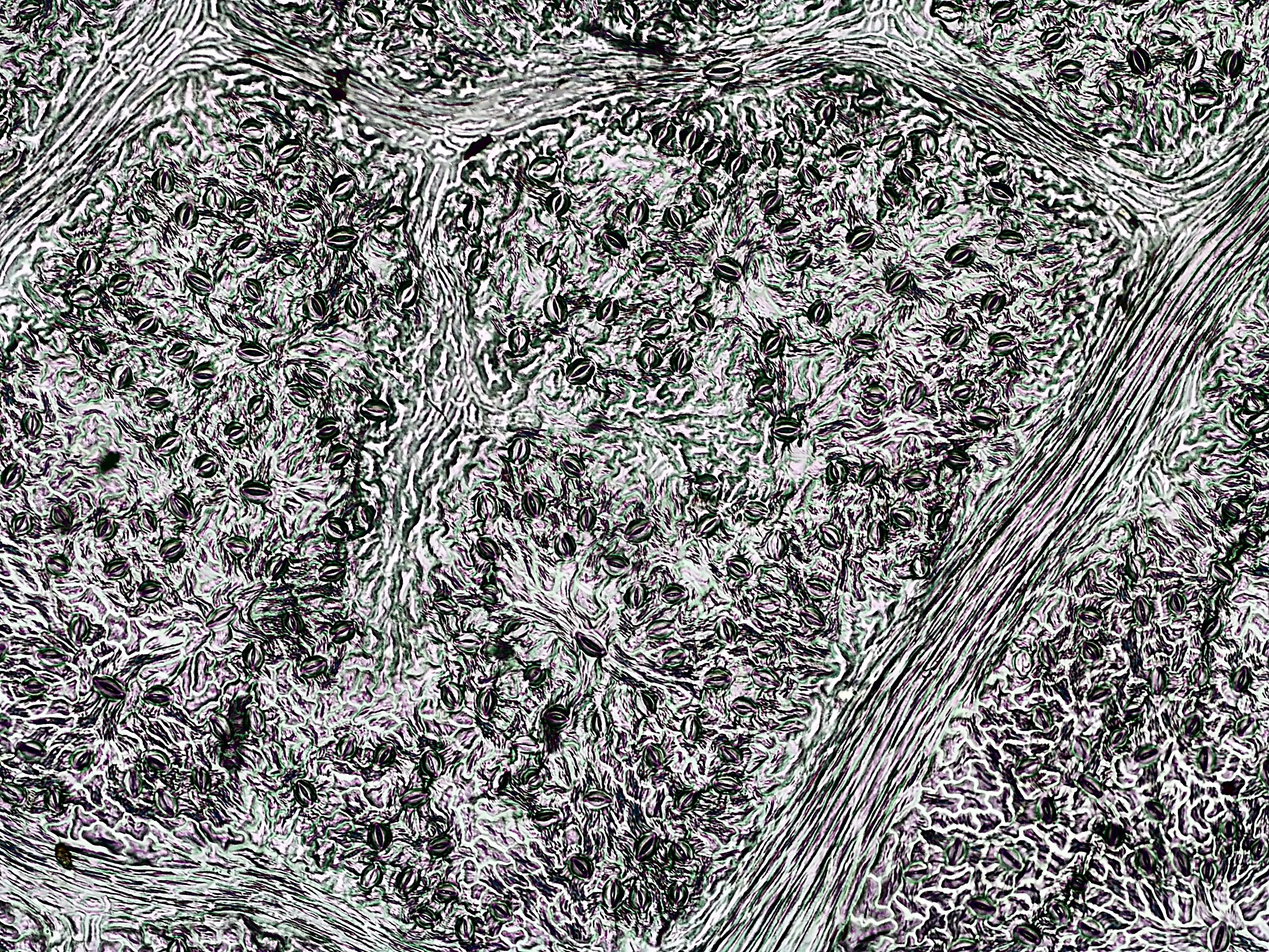stomata: (701, 58, 745, 83), (576, 627, 609, 657), (204, 603, 238, 631), (1097, 75, 1125, 108), (324, 225, 359, 251), (564, 357, 595, 385), (367, 820, 394, 852), (0, 779, 29, 808), (527, 156, 559, 182), (1206, 919, 1231, 952), (770, 419, 804, 443), (965, 894, 999, 918), (185, 267, 214, 295), (168, 493, 197, 521), (623, 517, 653, 544), (847, 226, 877, 253), (244, 478, 275, 504), (476, 686, 499, 721), (766, 527, 789, 562), (93, 675, 126, 699), (994, 229, 1027, 253), (1035, 641, 1064, 668), (638, 248, 672, 271), (969, 407, 1003, 430), (150, 430, 180, 456), (632, 831, 658, 861), (806, 298, 832, 328), (508, 325, 532, 357), (394, 279, 420, 308), (947, 242, 976, 268), (264, 551, 288, 582), (523, 488, 547, 519), (545, 294, 568, 326), (603, 878, 626, 910), (814, 95, 837, 127), (1128, 44, 1151, 76), (599, 228, 625, 256), (694, 513, 722, 539), (799, 604, 827, 630), (758, 330, 784, 358), (1009, 648, 1035, 676), (410, 2, 439, 27), (395, 866, 420, 895), (545, 189, 570, 218), (505, 435, 530, 464), (835, 143, 864, 168), (1013, 923, 1042, 948), (901, 381, 925, 411), (1219, 47, 1243, 77), (650, 119, 673, 150), (642, 317, 674, 339), (774, 220, 806, 242), (1185, 47, 1207, 79), (594, 298, 620, 325), (727, 553, 753, 580), (1106, 727, 1132, 754), (188, 364, 216, 389), (293, 779, 318, 807), (475, 492, 500, 520), (725, 151, 750, 179), (1154, 22, 1182, 47), (235, 342, 268, 363), (1126, 550, 1147, 583), (175, 199, 198, 229), (229, 233, 259, 256), (130, 311, 160, 334), (243, 706, 266, 736), (242, 642, 265, 672), (804, 577, 834, 600), (988, 332, 1018, 355), (1190, 84, 1220, 107), (143, 686, 174, 708), (631, 883, 653, 914), (946, 836, 968, 867), (642, 745, 668, 771), (238, 143, 263, 170), (877, 182, 902, 209), (1165, 590, 1190, 617), (355, 7, 383, 31), (238, 117, 266, 141), (69, 285, 97, 309), (246, 391, 270, 419), (693, 182, 717, 210), (680, 711, 701, 743), (848, 331, 880, 352), (78, 248, 101, 277), (317, 560, 346, 583), (298, 654, 327, 677), (377, 205, 407, 227), (122, 768, 144, 798), (426, 834, 456, 856), (581, 790, 614, 810), (155, 787, 176, 818), (634, 689, 655, 720), (161, 537, 186, 563), (617, 0, 642, 26), (477, 536, 503, 561), (439, 682, 464, 708), (666, 839, 692, 864), (327, 443, 351, 470), (818, 522, 842, 549), (304, 292, 327, 320), (209, 714, 232, 742), (420, 748, 443, 776), (503, 616, 531, 639), (752, 667, 780, 690), (661, 582, 689, 605), (782, 113, 805, 141), (990, 0, 1018, 23), (1201, 617, 1224, 645), (359, 862, 381, 891), (666, 880, 688, 909), (672, 347, 693, 377), (868, 520, 889, 550), (81, 332, 106, 357), (1041, 25, 1066, 50), (1, 462, 25, 488), (692, 307, 716, 333), (986, 181, 1012, 205), (945, 323, 969, 349), (152, 165, 175, 192), (203, 184, 226, 211), (127, 204, 150, 231), (570, 855, 593, 882), (855, 87, 882, 110), (878, 133, 905, 156), (1077, 772, 1100, 799), (578, 503, 598, 534), (680, 123, 700, 154), (931, 0, 962, 20), (713, 258, 741, 280), (542, 705, 570, 727), (603, 553, 631, 575), (466, 247, 487, 276), (453, 632, 482, 653), (858, 459, 879, 488), (1232, 664, 1253, 693), (463, 199, 482, 231), (1135, 595, 1154, 627), (107, 364, 131, 389), (224, 421, 248, 446), (330, 619, 355, 643), (637, 344, 661, 369), (798, 164, 822, 189), (982, 150, 1007, 174), (982, 290, 1006, 315), (1180, 712, 1204, 737), (373, 742, 396, 768), (662, 204, 685, 230), (1057, 59, 1083, 82), (274, 140, 301, 162), (144, 387, 171, 409), (51, 502, 73, 529), (16, 741, 49, 759), (143, 750, 170, 772), (538, 240, 560, 267), (949, 380, 976, 402), (355, 501, 374, 532), (362, 399, 390, 420), (68, 614, 89, 642), (675, 786, 696, 814), (716, 617, 737, 645), (761, 140, 782, 168), (192, 765, 212, 794), (942, 450, 971, 470), (1172, 848, 1192, 877), (914, 132, 938, 156), (887, 270, 911, 294), (753, 377, 777, 401), (1078, 638, 1102, 662), (1150, 665, 1168, 697), (332, 175, 355, 200), (109, 273, 134, 296), (8, 512, 31, 537), (325, 517, 348, 542), (786, 249, 811, 272), (891, 506, 916, 529), (1076, 607, 1101, 630), (1144, 799, 1169, 822), (1016, 755, 1041, 778), (345, 291, 367, 317), (336, 734, 358, 760), (626, 582, 648, 608), (922, 192, 944, 218), (1071, 735, 1093, 761), (904, 470, 931, 491), (1078, 917, 1105, 938), (714, 774, 742, 794), (750, 637, 778, 657), (589, 708, 607, 739), (168, 342, 192, 365), (105, 556, 129, 579), (69, 746, 92, 770), (523, 664, 547, 687), (760, 189, 783, 213), (862, 382, 886, 405), (1224, 497, 1247, 521), (999, 846, 1023, 869), (39, 647, 68, 666), (1190, 661, 1209, 690), (279, 255, 304, 277), (522, 769, 547, 791), (825, 460, 847, 485), (22, 410, 43, 436), (283, 609, 304, 635), (1243, 413, 1269, 434), (1136, 742, 1162, 763), (243, 276, 263, 303), (400, 787, 430, 805), (457, 914, 475, 944), (557, 532, 575, 562), (512, 734, 539, 754), (703, 668, 730, 688), (647, 618, 674, 638), (743, 501, 770, 521), (752, 595, 782, 613), (1036, 798, 1056, 825), (1195, 745, 1215, 772), (561, 454, 584, 477), (233, 196, 257, 218), (289, 384, 313, 406), (194, 454, 218, 476), (414, 907, 438, 929), (1212, 560, 1234, 584), (1123, 701, 1147, 723), (1048, 900, 1070, 924), (288, 201, 313, 222), (315, 417, 340, 438), (225, 536, 250, 557), (701, 140, 722, 165), (44, 786, 64, 812), (434, 881, 460, 901), (627, 199, 647, 225), (21, 677, 48, 696), (94, 517, 117, 539), (46, 552, 69, 574), (431, 597, 459, 615), (533, 808, 561, 826), (622, 105, 640, 133), (929, 504, 947, 532), (1103, 823, 1124, 847), (137, 583, 163, 602), (730, 697, 756, 716), (898, 161, 920, 183), (904, 861, 927, 882), (477, 585, 501, 605), (946, 937, 978, 952), (1237, 712, 1257, 736), (1250, 838, 1269, 863), (1200, 860, 1219, 885), (1087, 685, 1113, 703), (1138, 847, 1156, 873), (490, 900, 512, 921), (721, 745, 743, 766), (675, 0, 698, 20), (137, 508, 156, 532), (662, 650, 686, 669), (911, 554, 930, 578), (1034, 705, 1053, 729), (304, 368, 329, 386), (1241, 525, 1262, 546), (1067, 872, 1089, 890), (20, 1, 41, 19), (720, 0, 750, 12), (1244, 391, 1263, 409), (1222, 819, 1239, 839), (1115, 797, 1131, 818)
